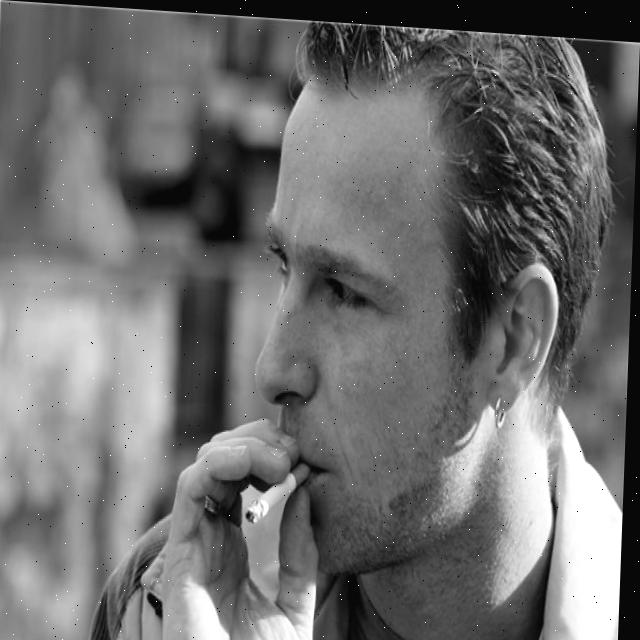cigarette: (248, 459, 312, 522)
